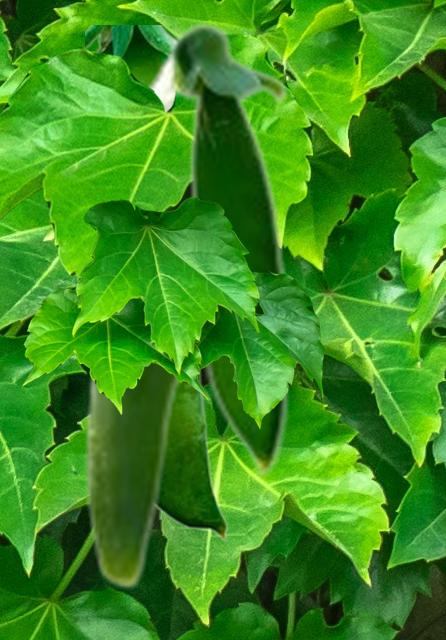pea: (85, 25, 227, 541), (165, 19, 290, 484), (83, 50, 188, 589)
